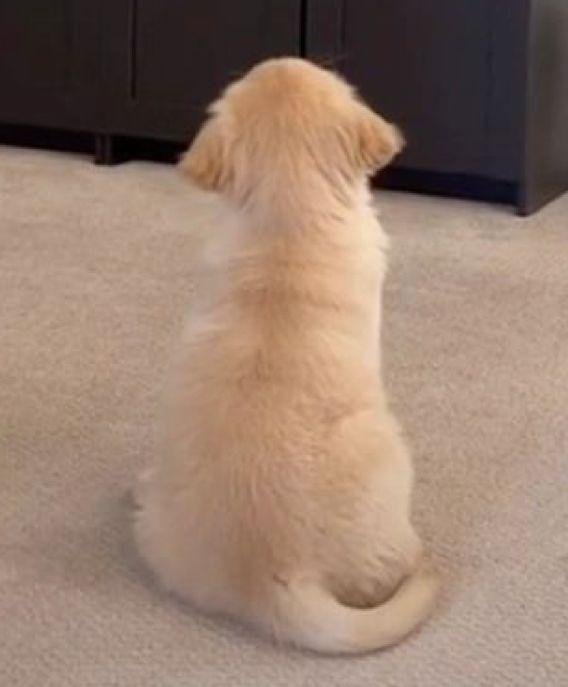puppy-dog: (126, 59, 440, 661)
